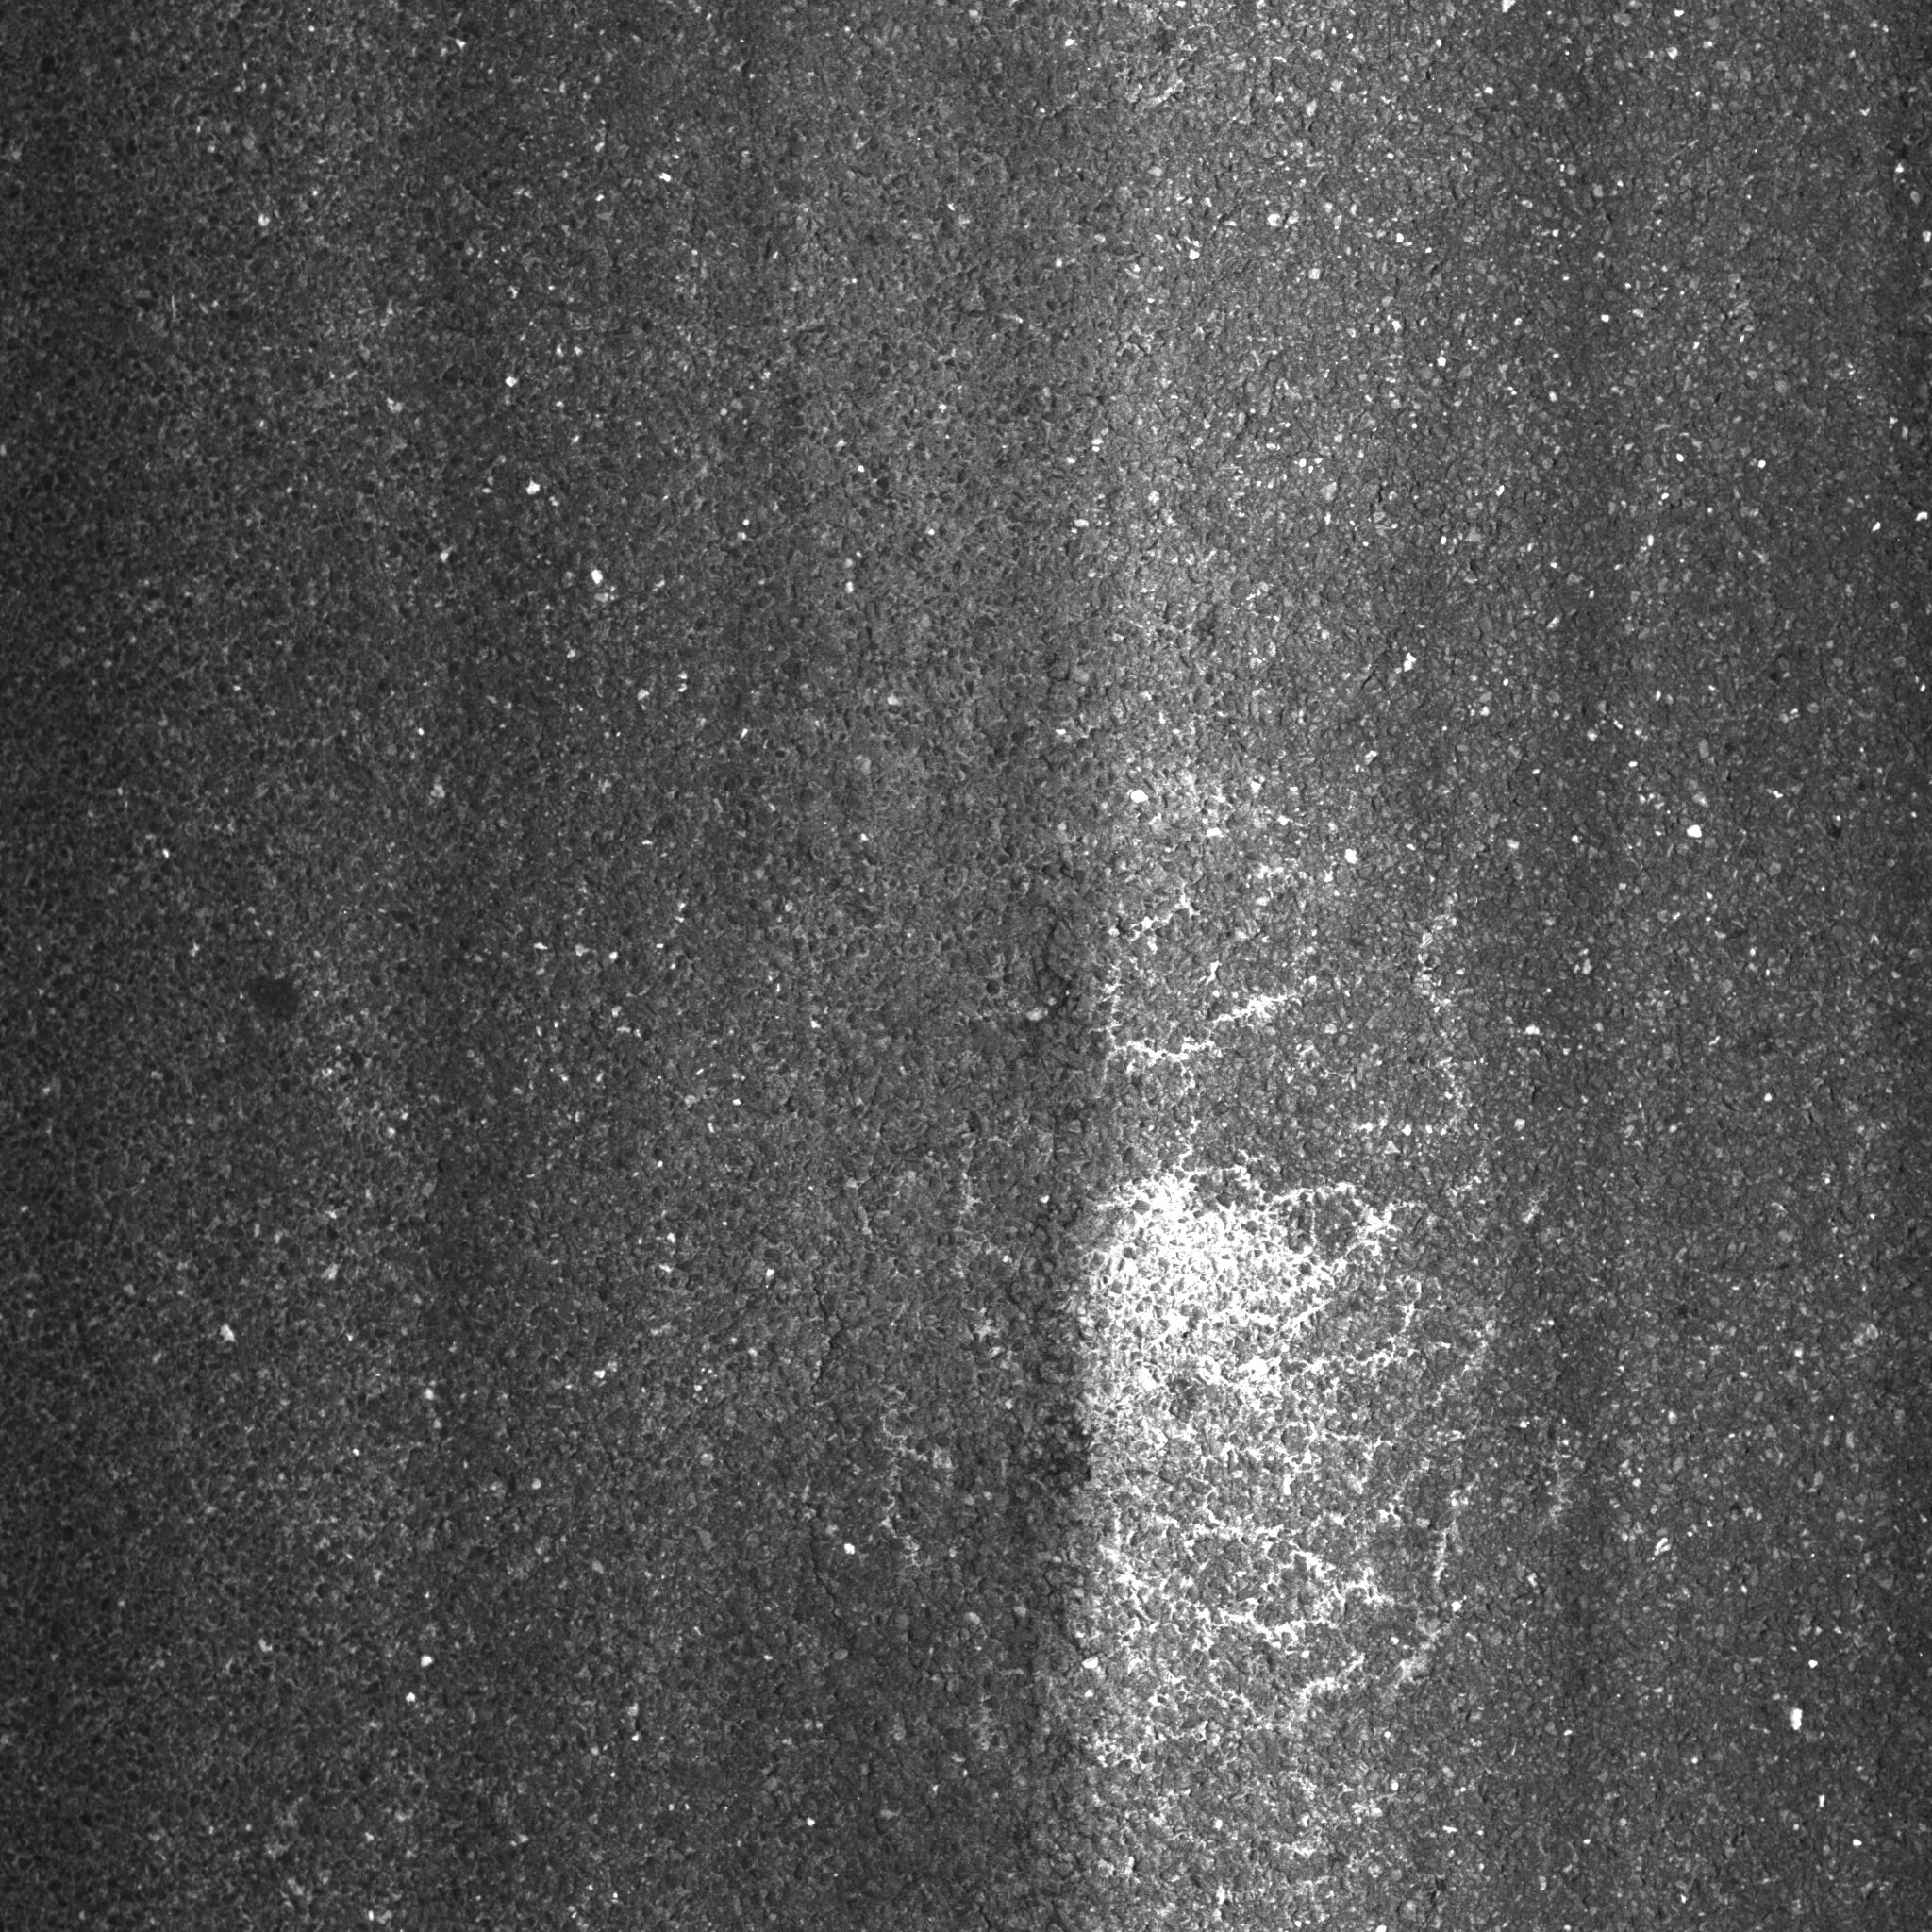alligator: (824, 663, 1667, 1932)
